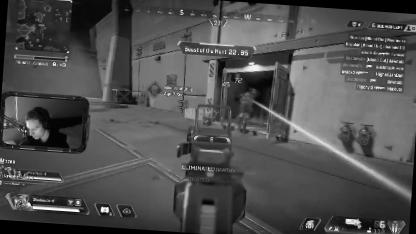Target: (236, 90, 252, 132)
